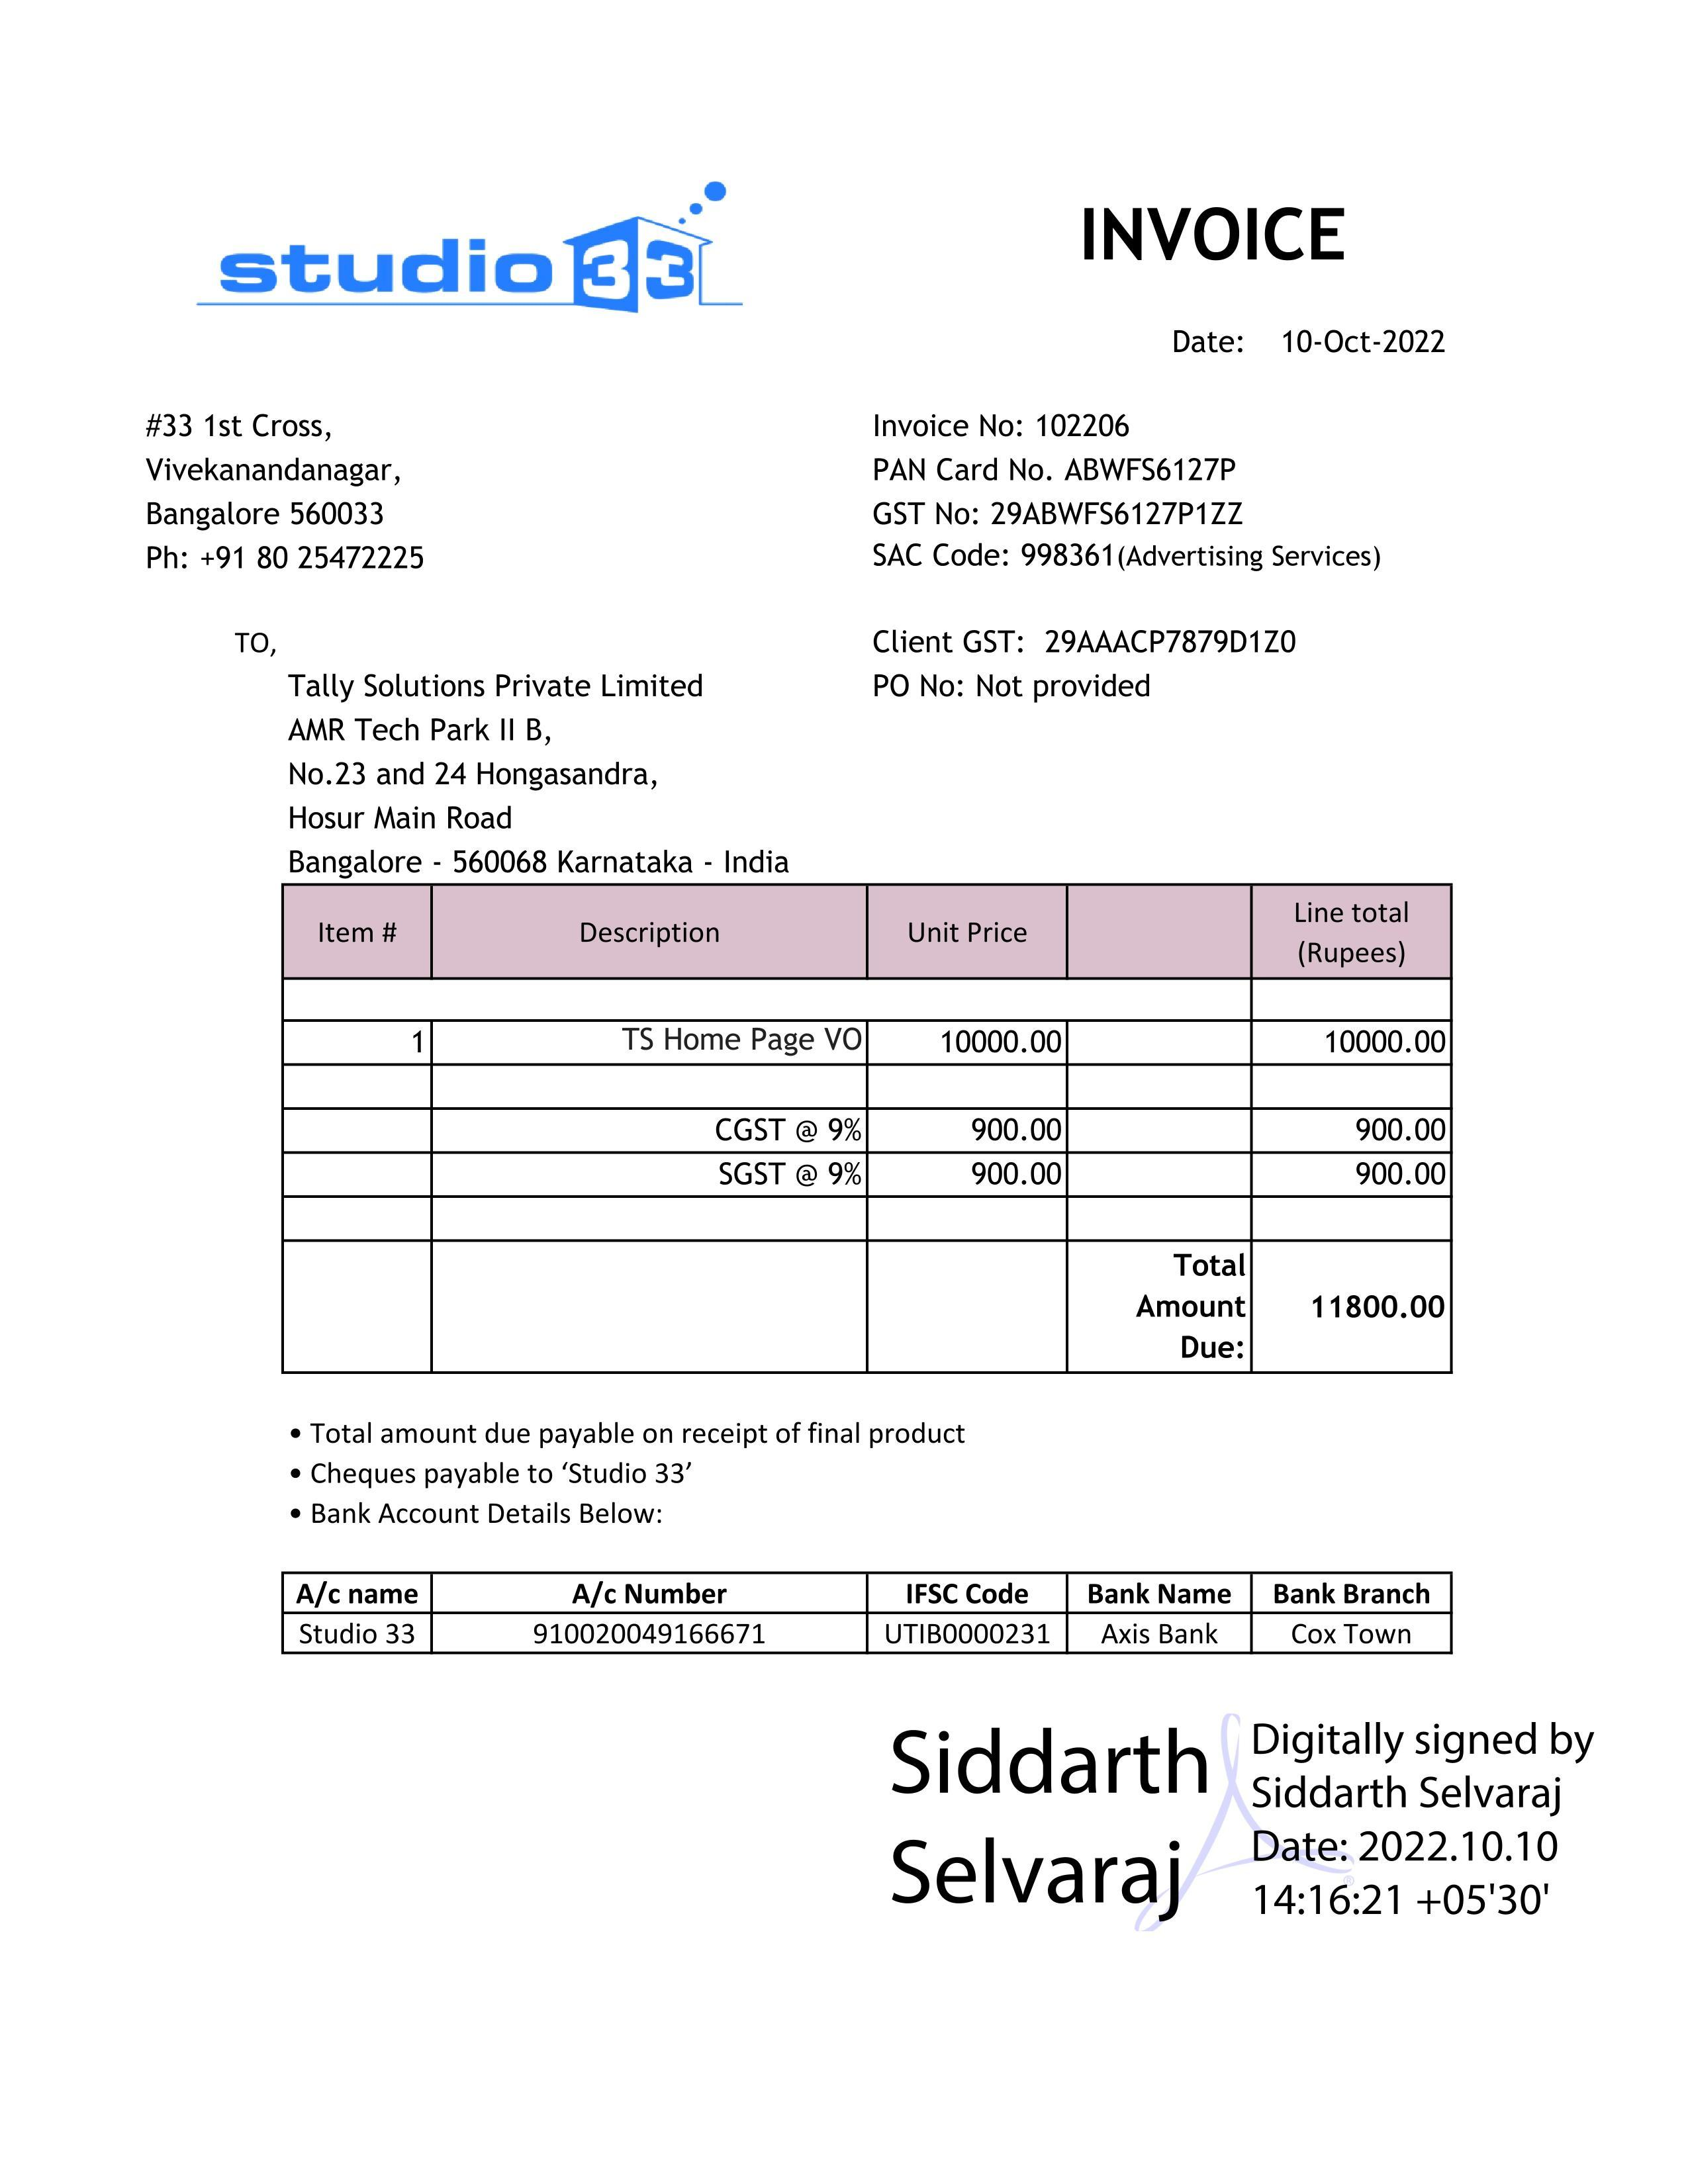InvoiceDate: (1275, 321, 1450, 358)
InvoiceNumber: (1028, 404, 1137, 441)
TotalAmount: (1301, 1287, 1447, 1333)
